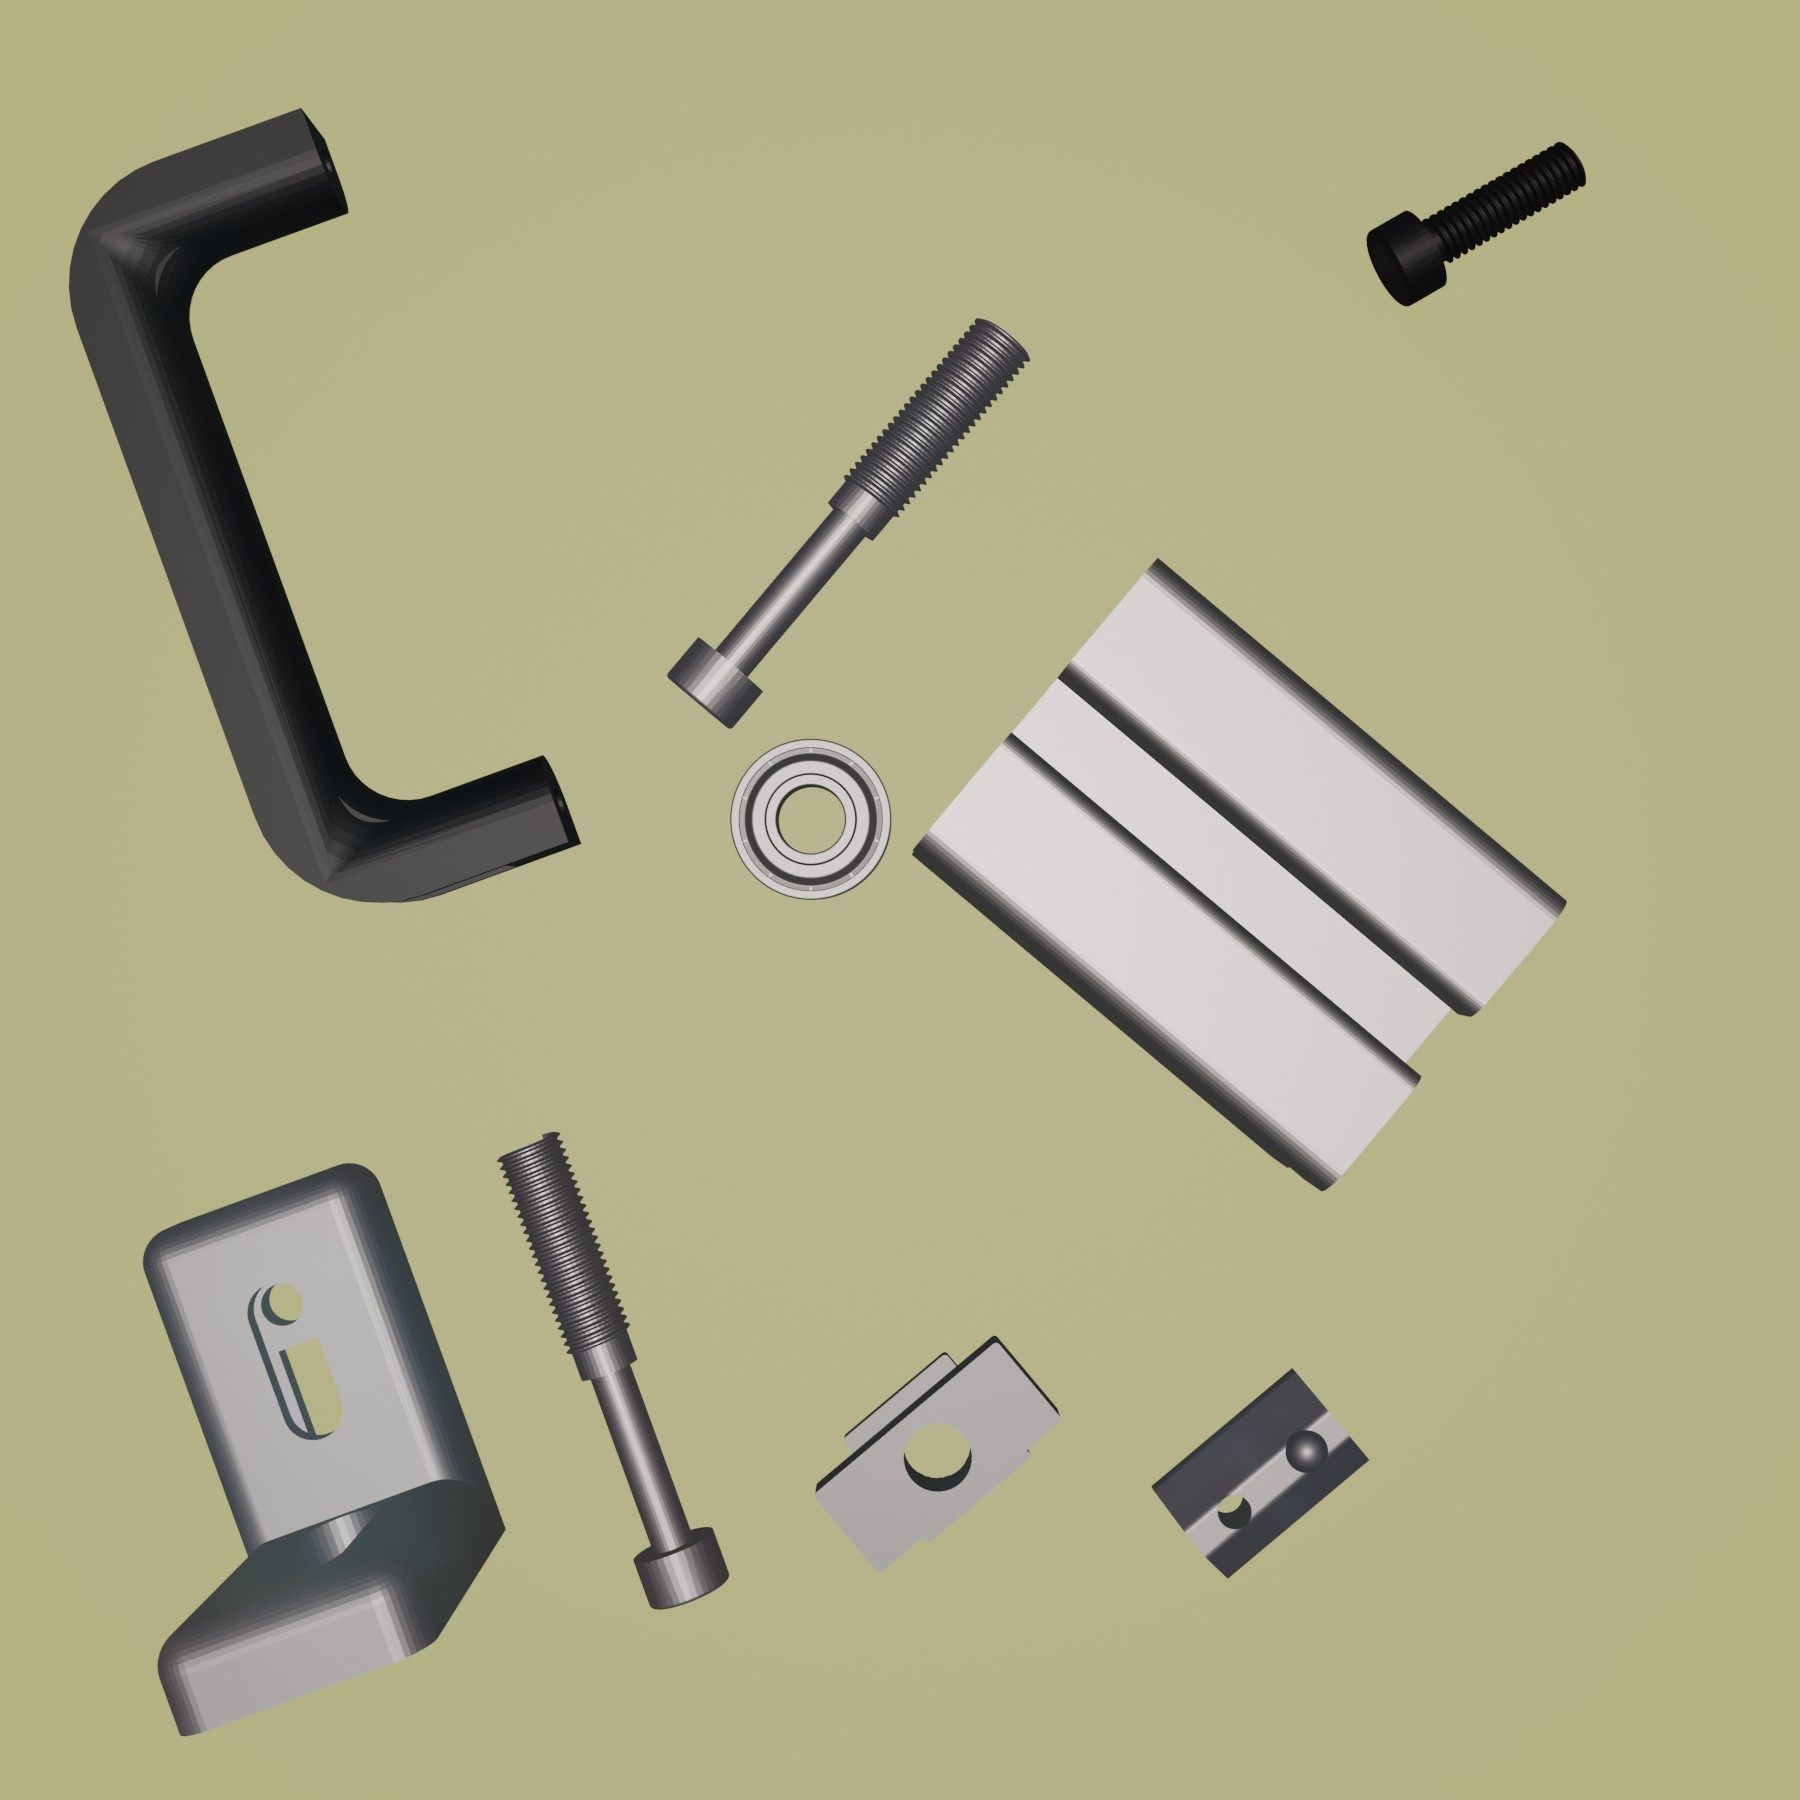Aluminium Extension: (908, 555, 1569, 1197)
Ball Bearing: (727, 735, 893, 903)
Multiwinkel: (143, 1159, 508, 1737)
Pull Handle: (66, 109, 585, 907)
Shoulder Socket Head Cap Screw: (663, 316, 1034, 732), (493, 1126, 734, 1610)
Socket Head Cap Screw: (1366, 138, 1587, 308)
T Nut Square: (813, 1332, 1062, 1576)
T Spring Nut: (1146, 1363, 1371, 1584)
